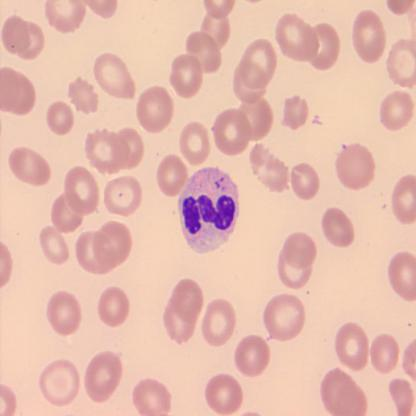Segmented neutrophil: (176, 164, 242, 256)
